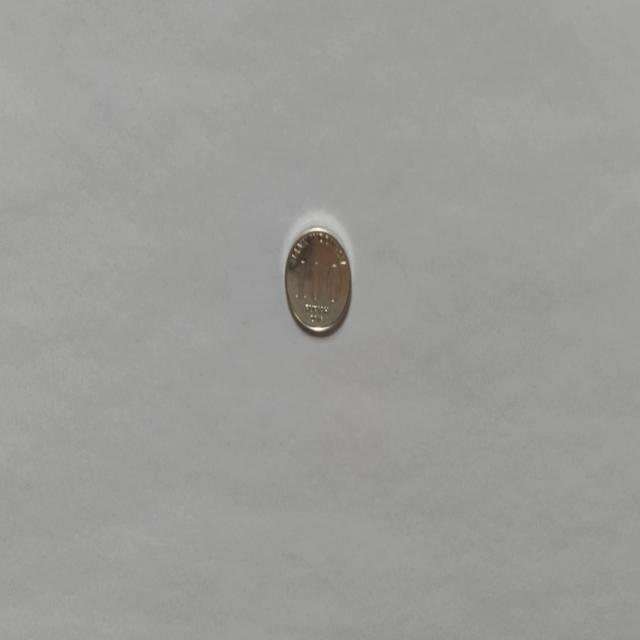seratus rupiah: (284, 223, 352, 337)
